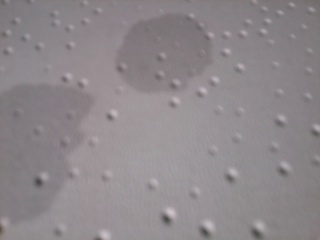Water_detected: (29, 96, 128, 209), (142, 17, 217, 79)
